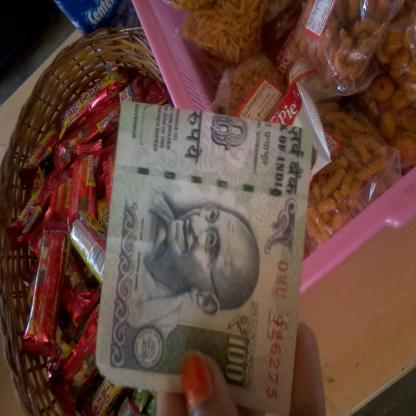Old100Front: (96, 99, 314, 416)
